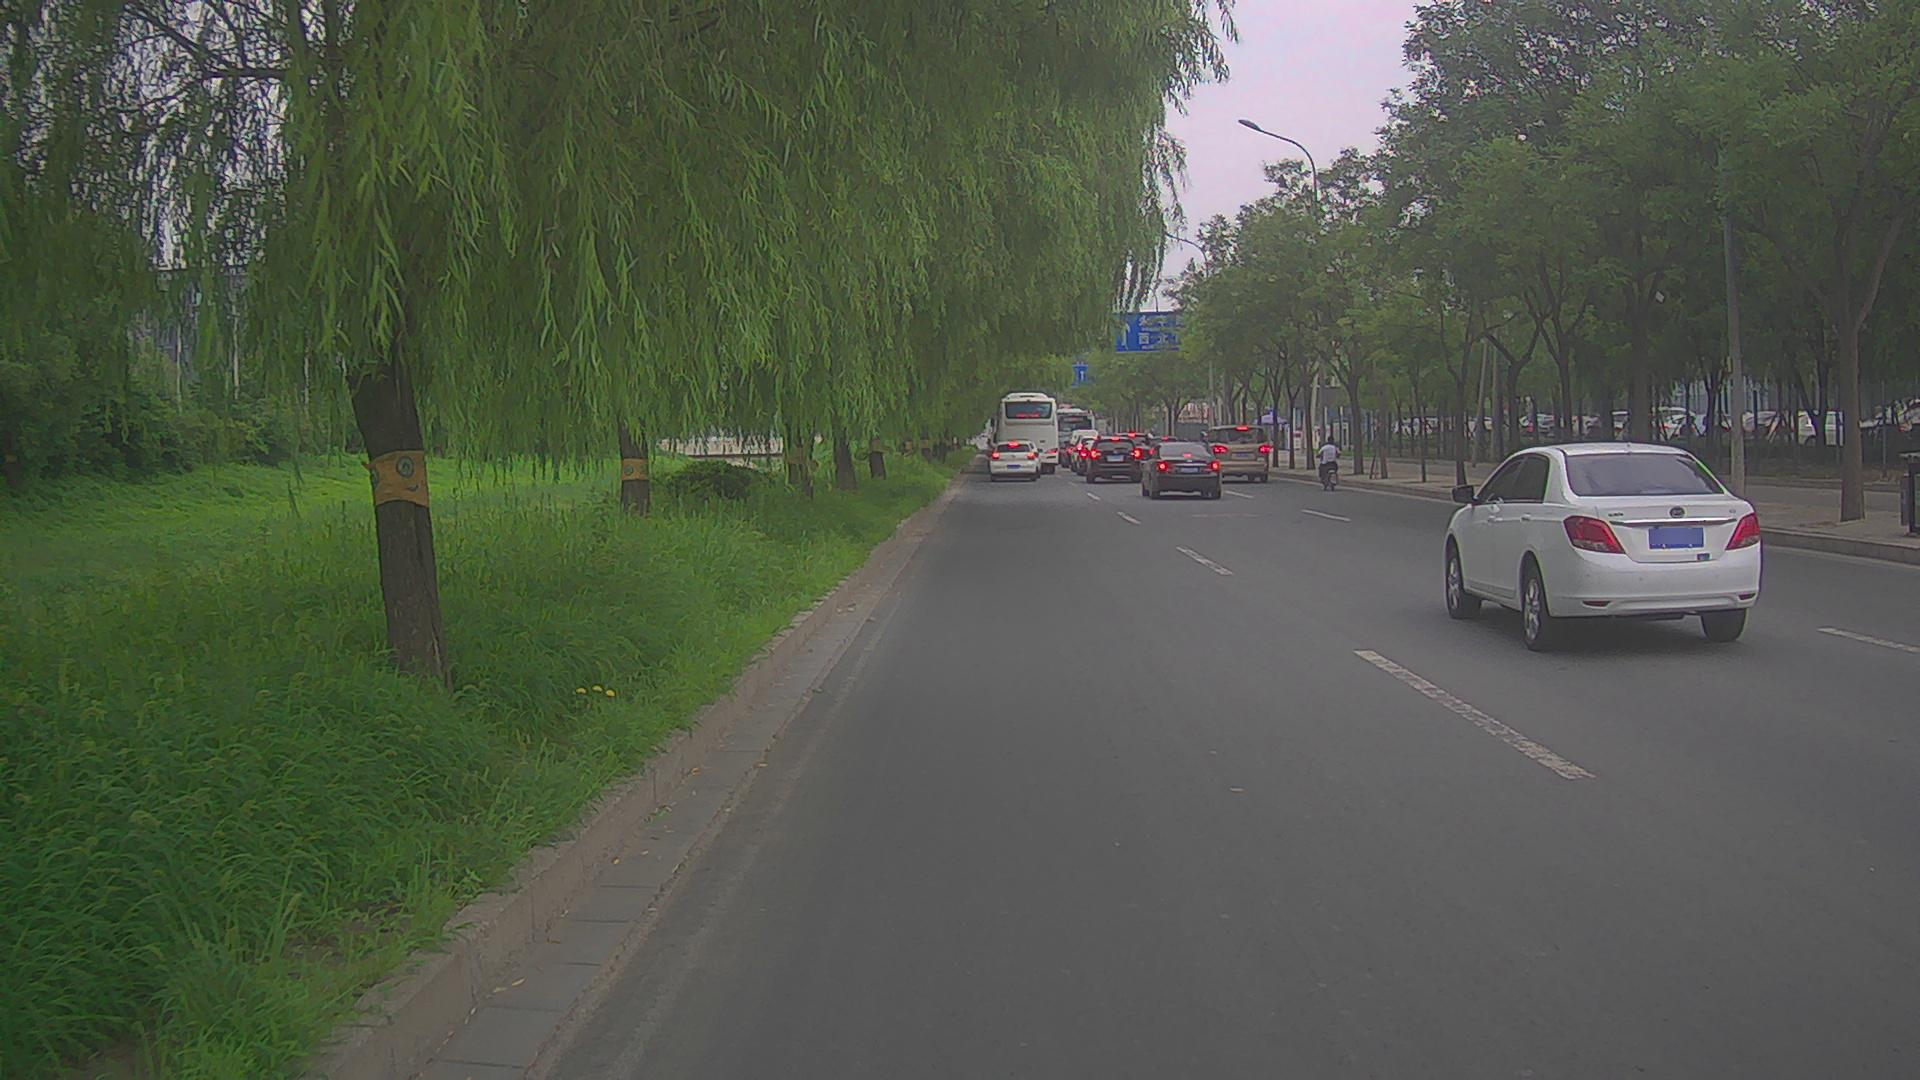bus: (990, 392, 1059, 473), (1055, 404, 1095, 464)
car: (1441, 440, 1762, 651), (1141, 440, 1220, 500), (1088, 435, 1141, 483), (988, 439, 1039, 484)
ignore: (1386, 400, 1917, 440), (1058, 429, 1098, 475)
motorcyclist: (1313, 434, 1344, 492)
van: (1200, 425, 1270, 484)
